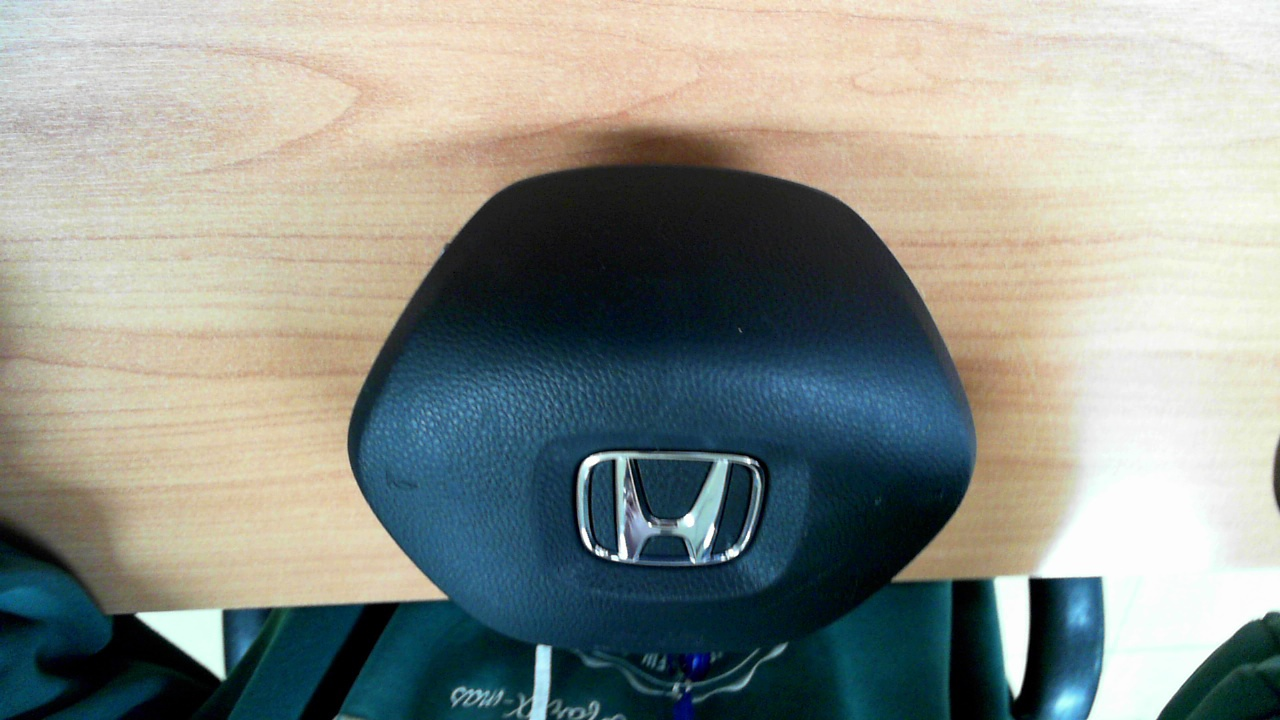Airbag: (346, 165, 978, 653)
Honda: (577, 448, 766, 569)
